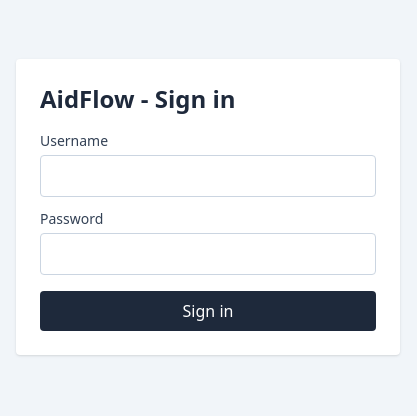
Scenario: login › shows the server's error message and stores nothing on failure
Type "alice" into the field labelled "Username" at (208, 176), box [40,155,376,197]
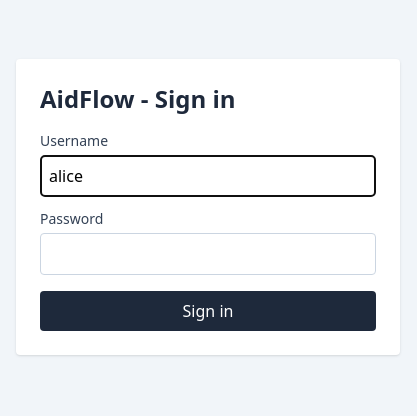
Type "wrong-password-123" into the password field labelled "Password" at (208, 254), box [40,233,376,275]
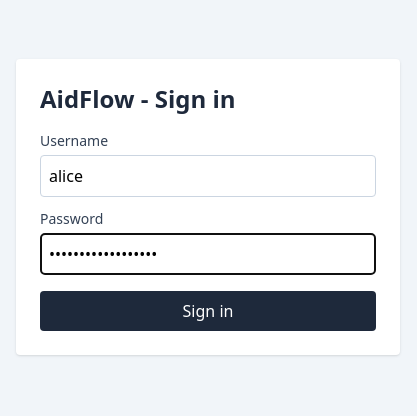
Click the button "Sign in" at (208, 311), box [40,291,376,331]
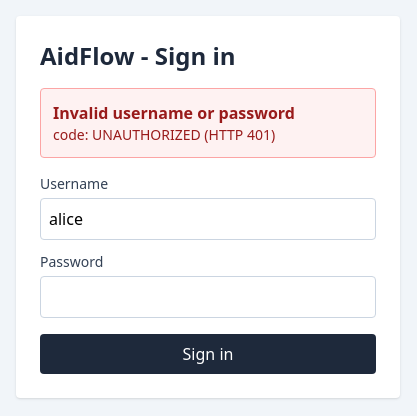
Result: the message shows "Invalid username or password" at [53,102,295,124]
Result: the message shows "UNAUTHORIZED" at [92,125,201,144]
Result: the password field labelled "Password" is empty at [40,276,376,318]
